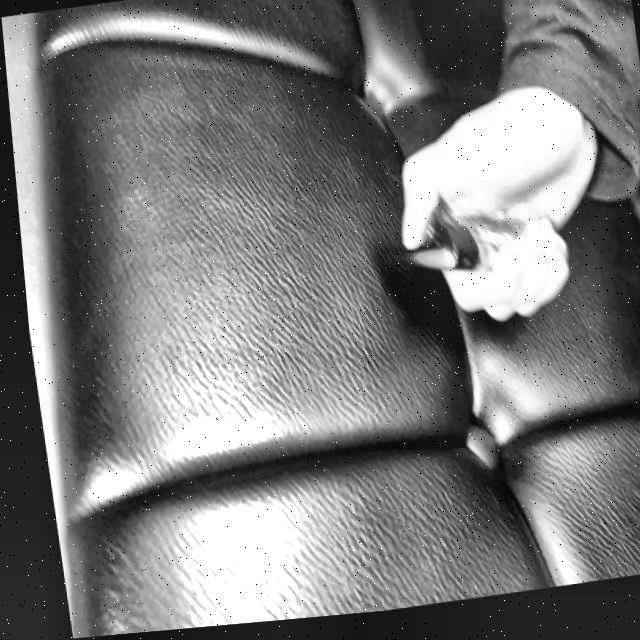Fire: (405, 249, 451, 280)
